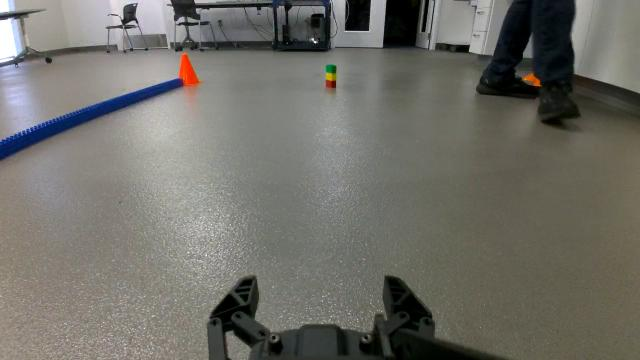lego: (320, 58, 342, 96)
